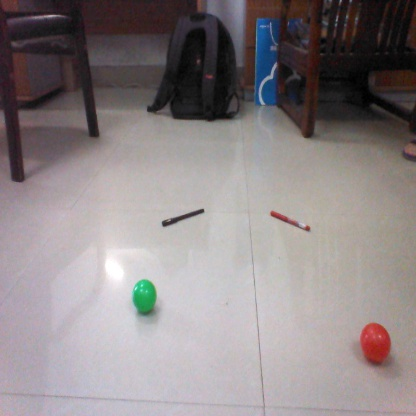ball: (357, 321, 393, 363), (129, 279, 160, 312)
pen: (160, 205, 209, 226), (268, 209, 310, 232)
